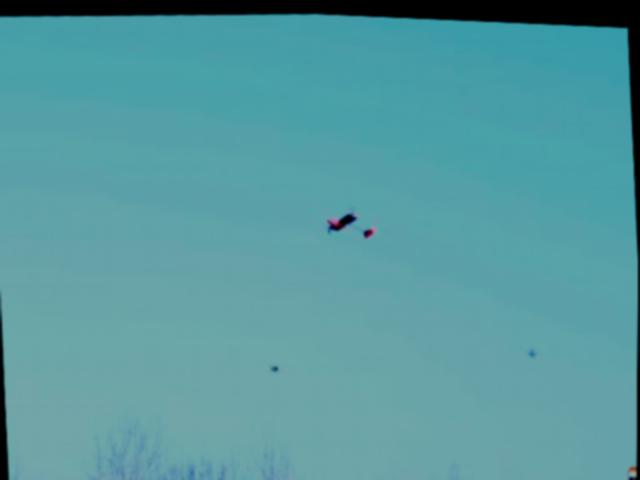uav: (319, 198, 381, 242)
